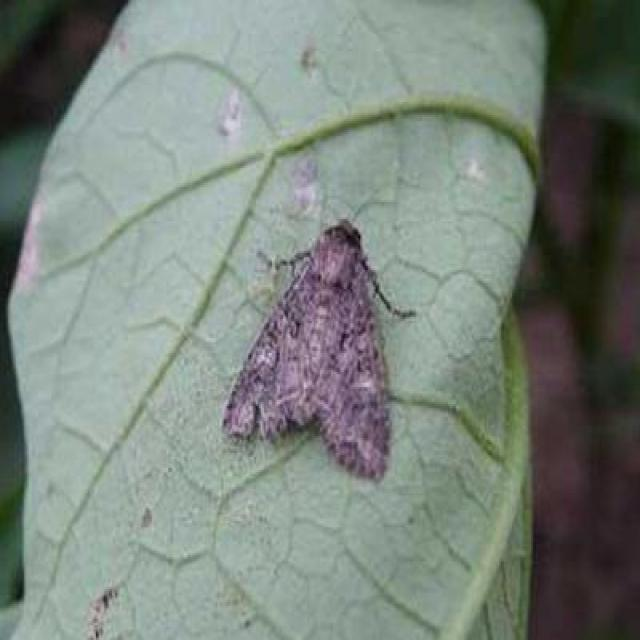armyworm: (246, 209, 409, 487)
